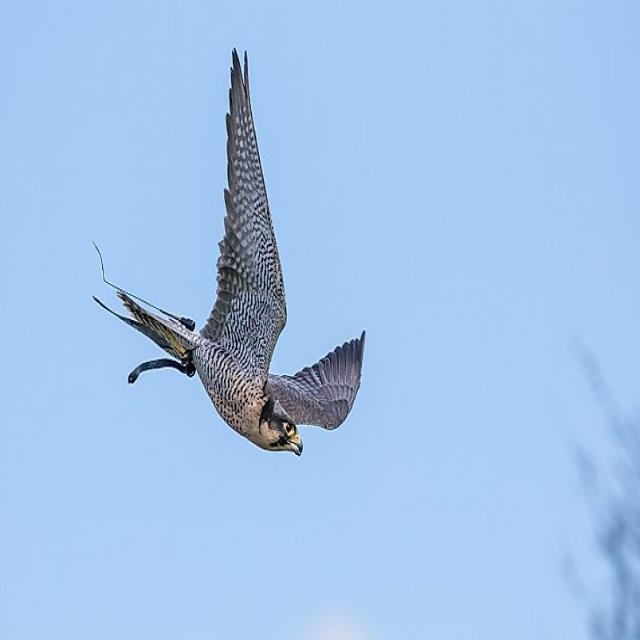birds: (76, 44, 368, 469)
